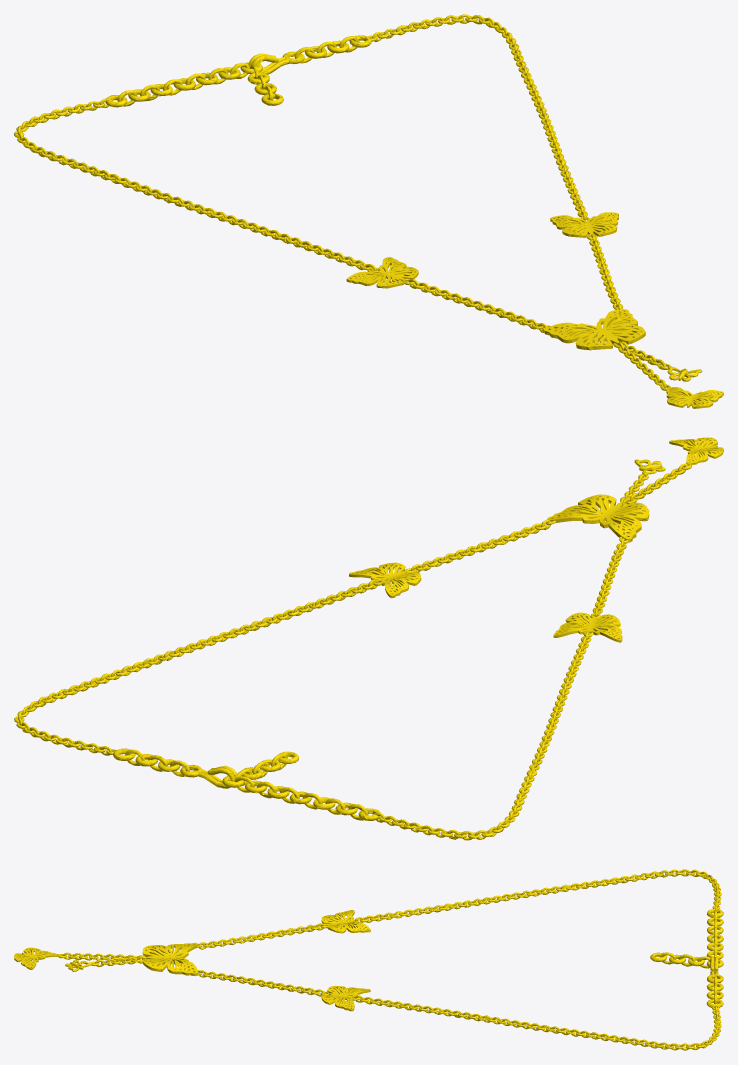
The model's file is GN-SAD0003050.glb.
3 views of the same model, one above another, from view 1: azimuth 30°, elevation 25°; view 2: azimuth 150°, elevation 25°; view 3: azimuth 270°, elevation 25° (orthographic). The views are drawn at different scales.
Visible parts, largest first — view 1: highPolyMesh, lowPolyMesh; view 2: highPolyMesh, lowPolyMesh; view 3: highPolyMesh, lowPolyMesh.
Part boxes in pixels (<box>): highPolyMesh: <box>14,14,723,408</box>; lowPolyMesh: <box>14,15,723,408</box>; highPolyMesh: <box>14,437,723,840</box>; lowPolyMesh: <box>14,437,722,839</box>; highPolyMesh: <box>14,869,723,1050</box>; lowPolyMesh: <box>15,869,723,1050</box>.
Bounding box in the file's own units: 0.0974 × 0.00387 × 0.1647.
